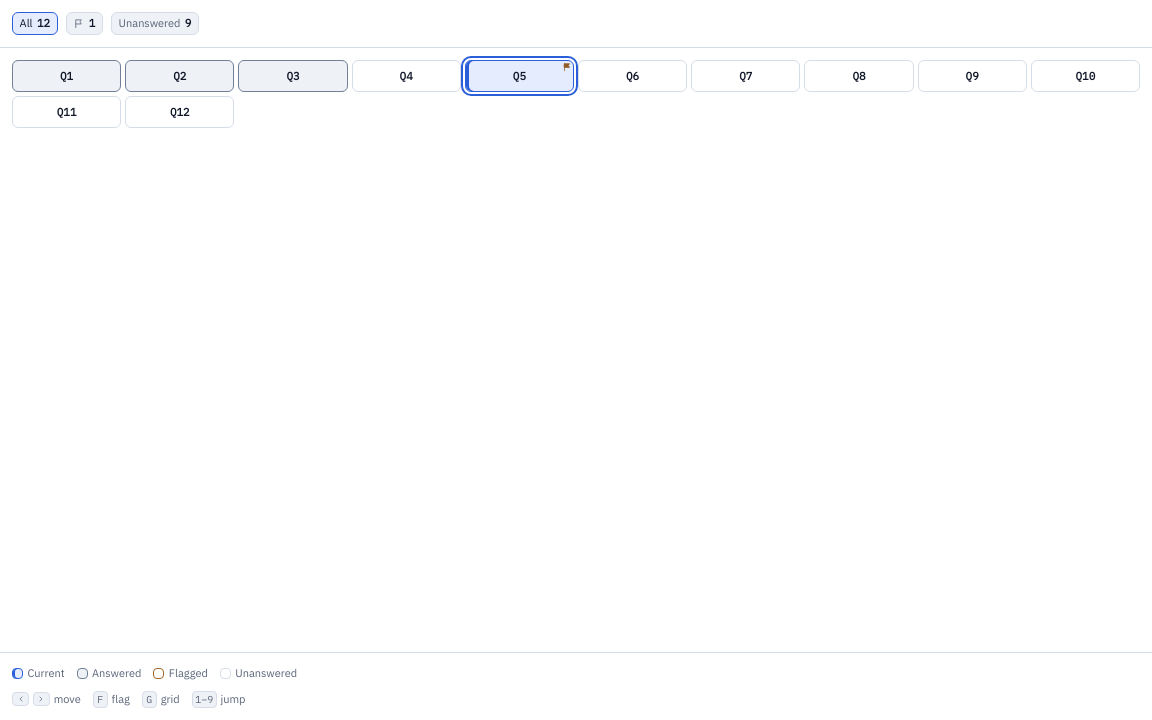
Test: Navigator flags › the flagged filter empties as the last flag is cleared
Click the button named "Flagged". click: (84, 23)
box: [66, 12, 103, 35]
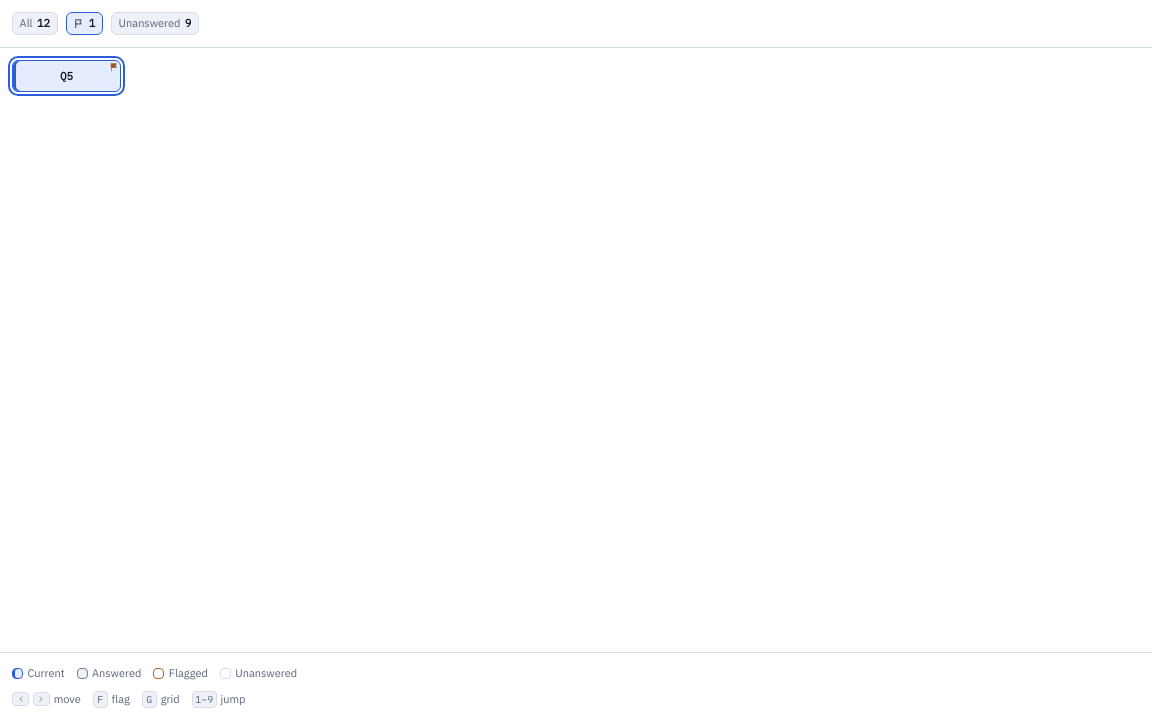
Result: the number of buttons "Q5" is 1 at [12, 60, 121, 92]
Type keys "f"
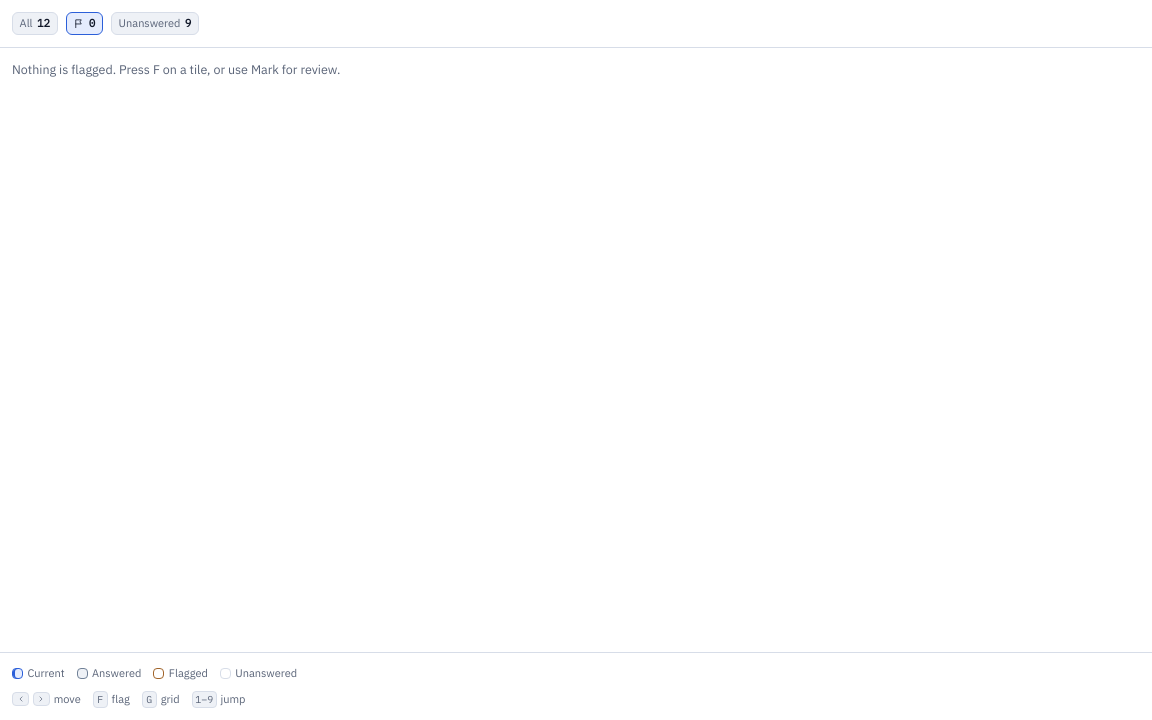
Result: the text "Nothing is flagged" is shown at [12, 61, 340, 77]
